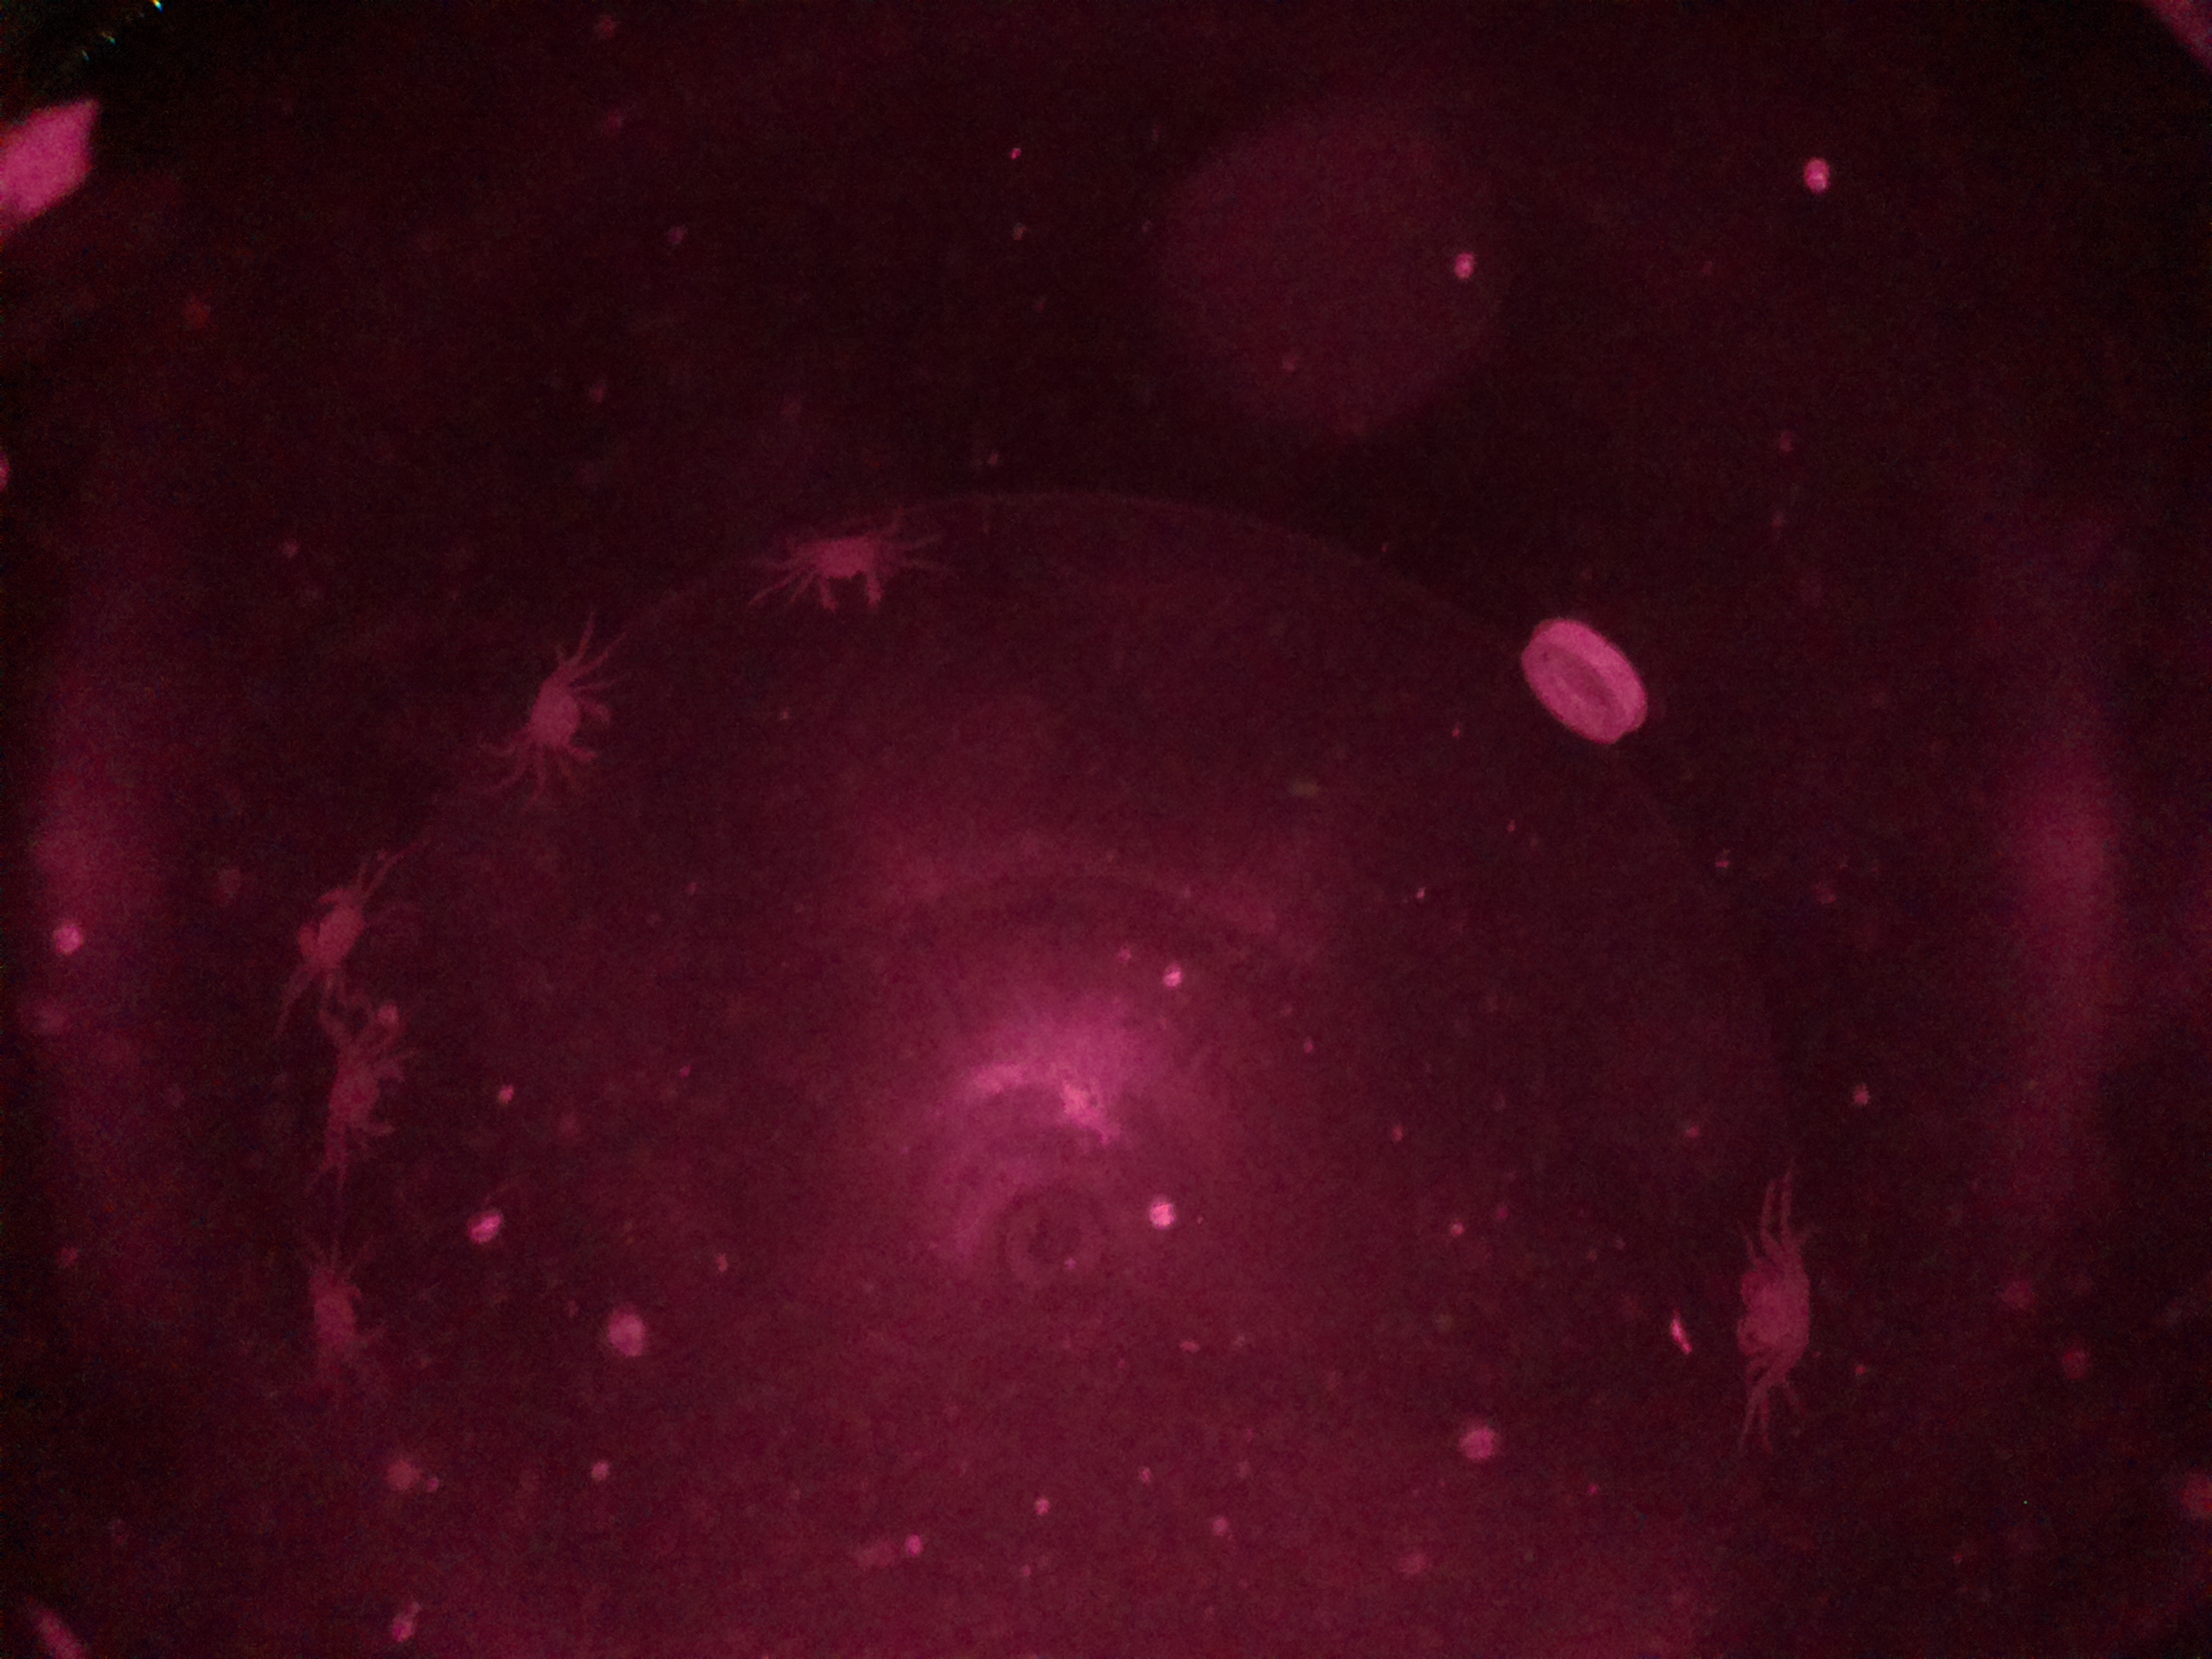Crab: (1712, 1222, 1834, 1370), (268, 1256, 404, 1384), (308, 1028, 430, 1162), (502, 659, 632, 781), (773, 521, 899, 638), (266, 873, 394, 988)
